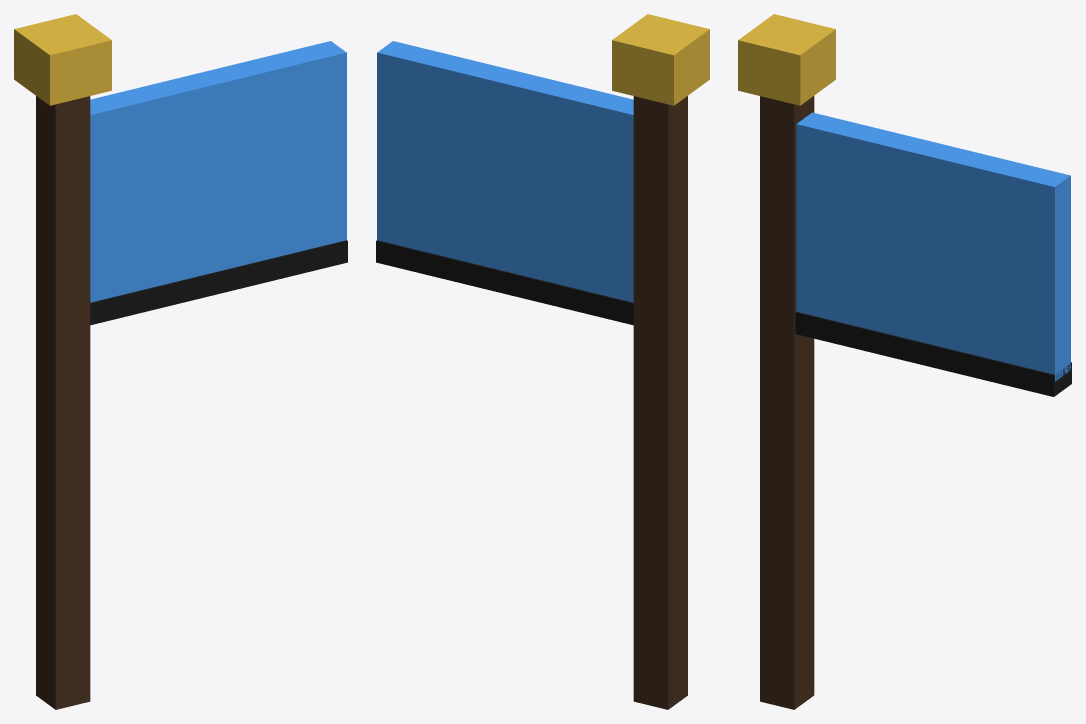
The model's file is flag_1.glb.
3 views of the same model, side by side, from view 1: azimuth 30°, elevation 25°; view 2: azimuth 150°, elevation 25°; view 3: azimuth 330°, elevation 25° (orthographic).
Size of the model in its own units: 0.89 by 1.84 by 0.18.
Materials: 1 (1 with a texture image).
